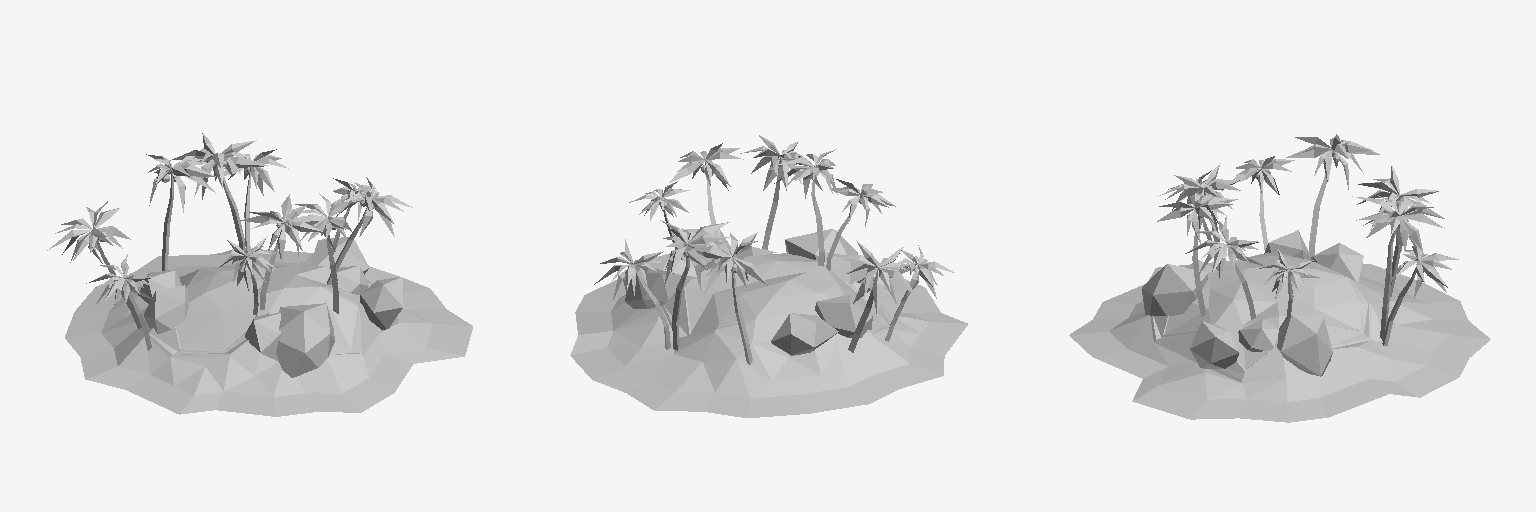
Rendered from island2.obj.
The picture shows the model from 3 angles: view 1: azimuth 30°, elevation 25°; view 2: azimuth 150°, elevation 25°; view 3: azimuth 270°, elevation 25°; orthographic projection.
Visible parts, largest first — view 1: Island; view 2: Island; view 3: Island.
Part boxes in pixels (left/top/right/bottom): Island: left=47, top=133, right=472, bottom=416; Island: left=570, top=135, right=967, bottom=417; Island: left=1069, top=134, right=1490, bottom=422.
Size of the model in its own units: 30.97 by 13.14 by 31.68.